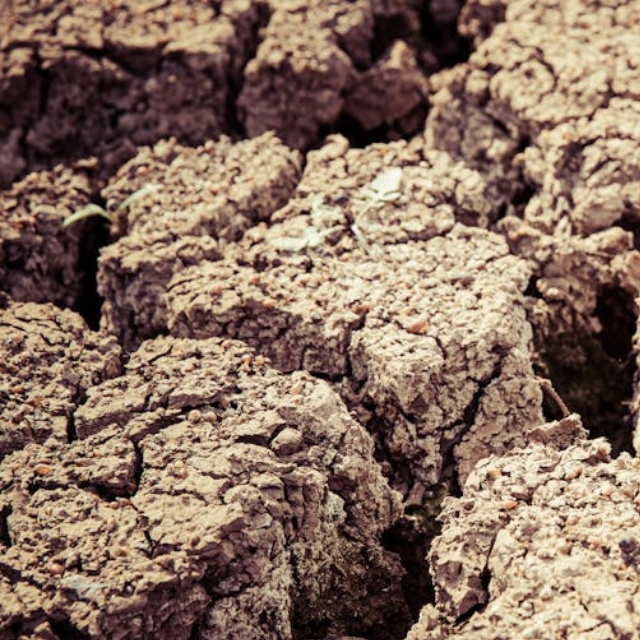深大裂缝: (0, 13, 552, 203), (0, 500, 536, 640), (456, 190, 640, 524)
